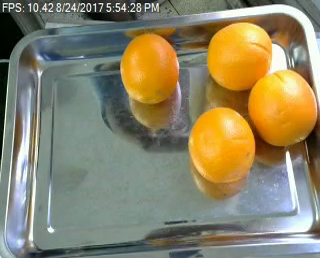Orange: (246, 68, 317, 146), (186, 106, 255, 183), (205, 21, 272, 90), (119, 31, 178, 104)
